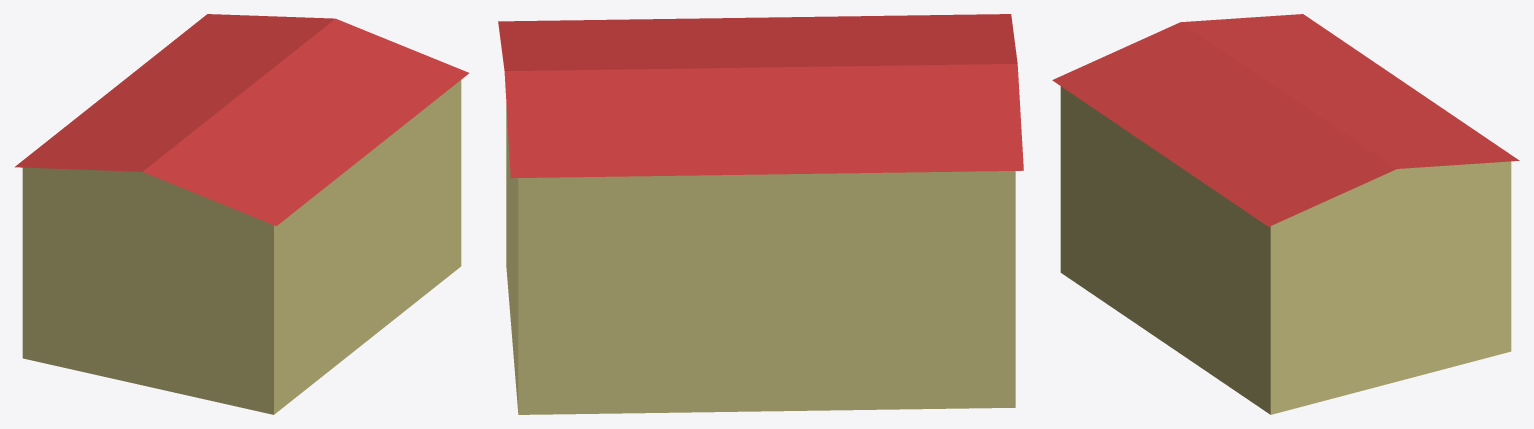
3 views of the same model, side by side, from view 1: azimuth 30°, elevation 25°; view 2: azimuth 150°, elevation 25°; view 3: azimuth 270°, elevation 25° (orthographic). The views are drawn at different scales.
Size of the model in its own units: 20.14 by 18.7 by 9.51.
